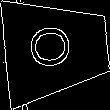O_E: (31, 25, 82, 73)
